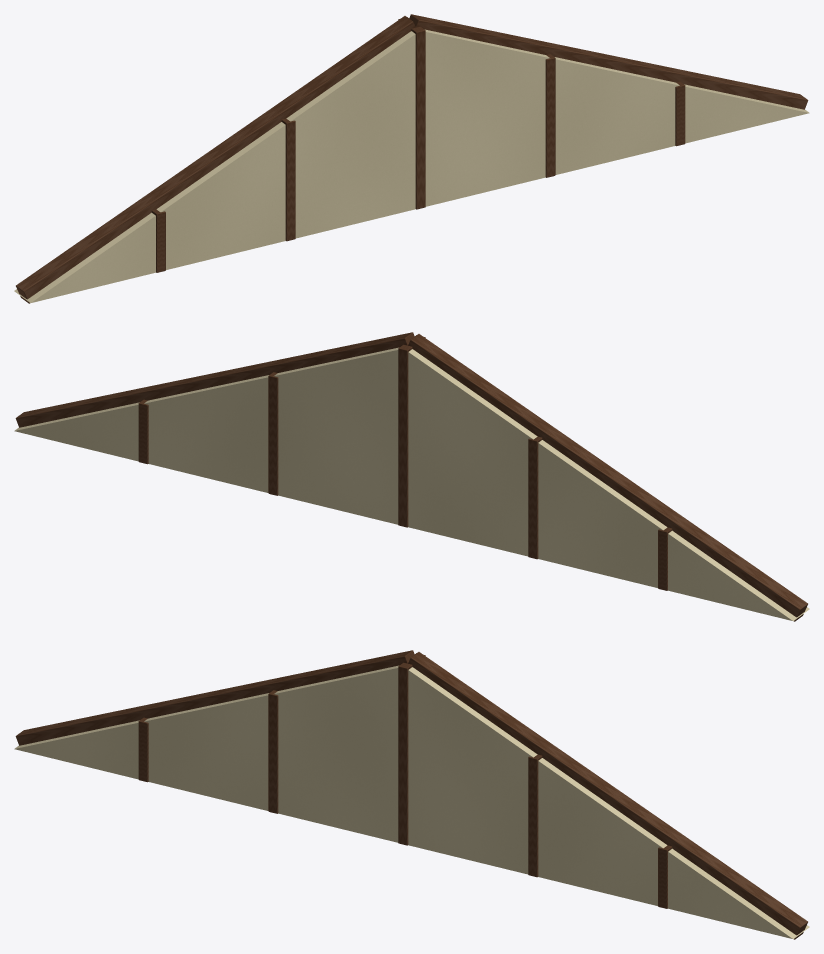
Rendered from gable.glb.
3 renders of one model, top to bottom at view 1: azimuth 30°, elevation 25°; view 2: azimuth 150°, elevation 25°; view 3: azimuth 330°, elevation 25°, orthographic.
Visible parts, largest first — view 1: gable; view 2: gable; view 3: gable.
Boxes of the visible parts, x1,y1,x2,y2 form: gable: (14, 14, 809, 303); gable: (14, 332, 809, 621); gable: (14, 650, 809, 939).
Bounding box in the file's own units: 5.44 × 1.25 × 0.22.
Materials: 2 (2 with a texture image).
